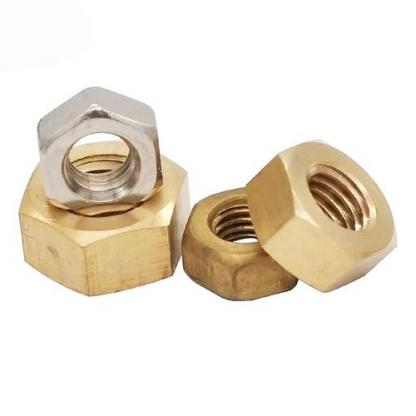FOD: (14, 137, 193, 298), (244, 137, 402, 296), (33, 81, 168, 219), (181, 185, 303, 301)
